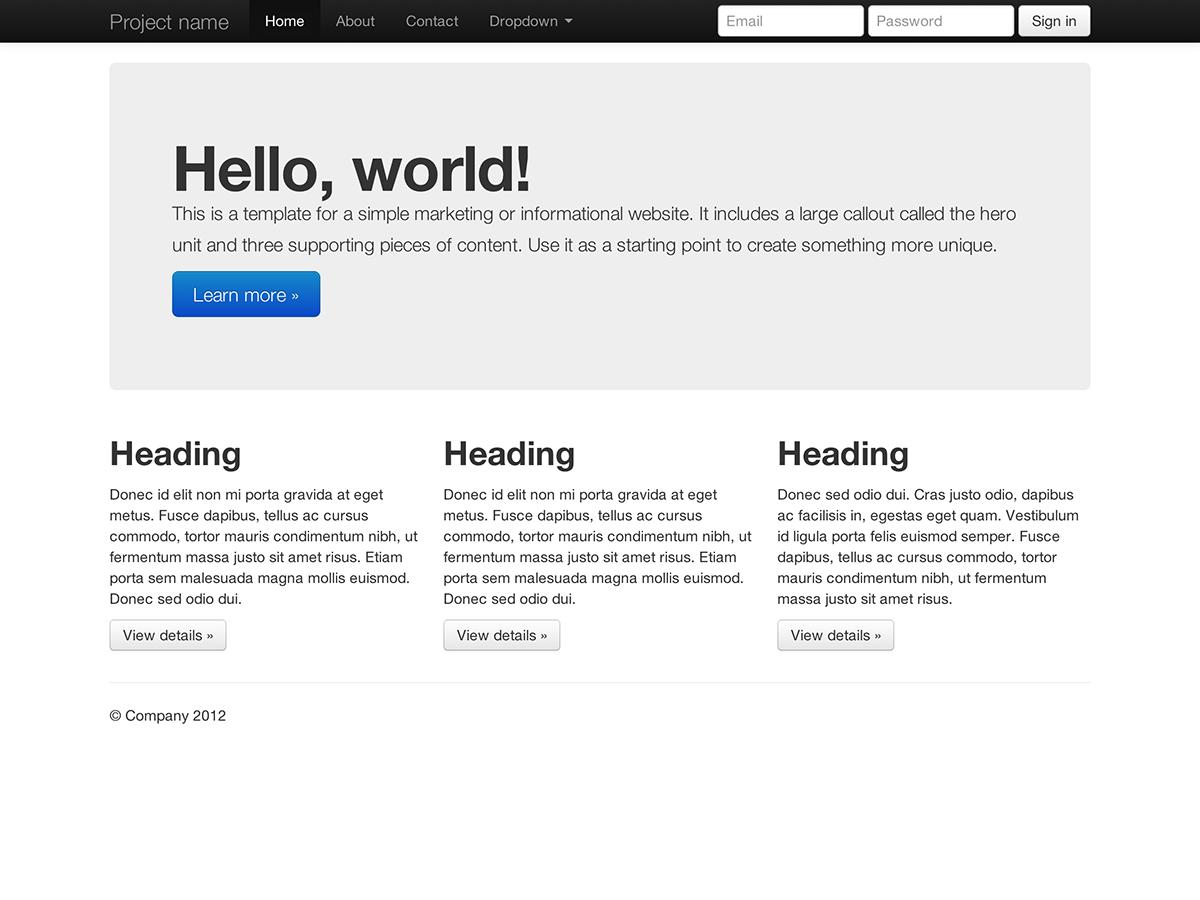button: (105, 611, 236, 655), (1017, 1, 1094, 39)
textbox: (713, 2, 865, 40), (866, 1, 1017, 39)
